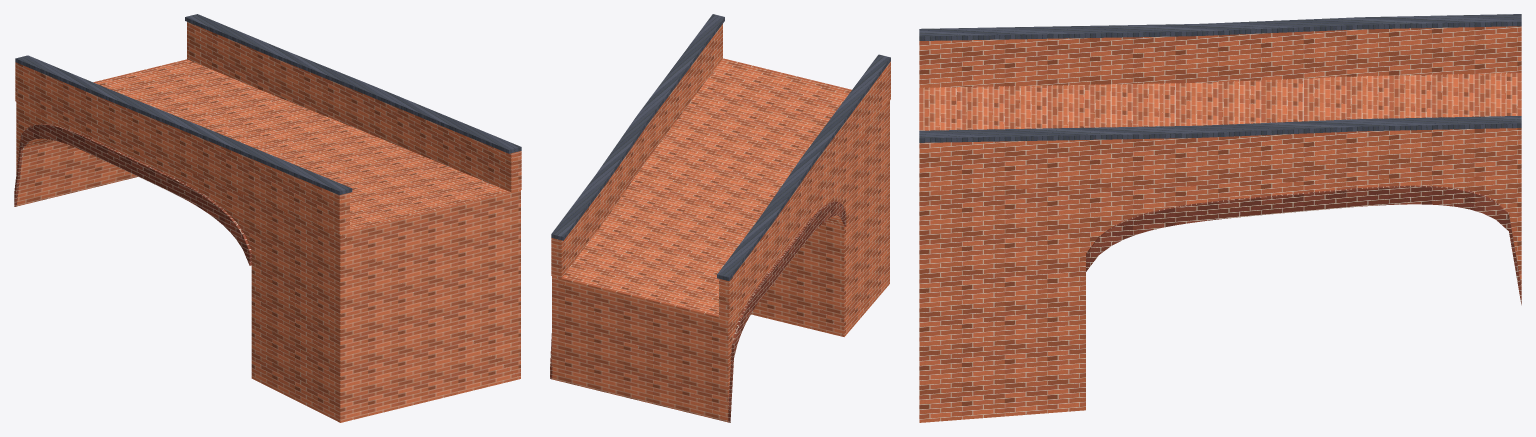
File: bridge-7.glb
The picture shows the model from 3 angles, left to right: view 1: azimuth 30°, elevation 25°; view 2: azimuth 150°, elevation 25°; view 3: azimuth 270°, elevation 25°; orthographic projection. The views are drawn at different scales.
Visible parts, largest first — view 1: Masonry, Parapet.001, ArchRing; view 2: Masonry, Parapet.001, ArchRing; view 3: Masonry, Parapet.001, ArchRing.
Part boxes in pixels (x1,y1,x2,y2): Masonry: [15, 22, 521, 422]; Parapet.001: [15, 14, 521, 195]; ArchRing: [14, 124, 251, 265]; Masonry: [551, 24, 890, 422]; Parapet.001: [551, 14, 890, 280]; ArchRing: [550, 201, 846, 422]; Masonry: [919, 26, 1521, 422]; Parapet.001: [919, 14, 1521, 142]; ArchRing: [1086, 185, 1521, 305].
Bounding box in the file's own units: 8.74 × 7.37 × 14.1.
Materials: 3 (3 with a texture image).
